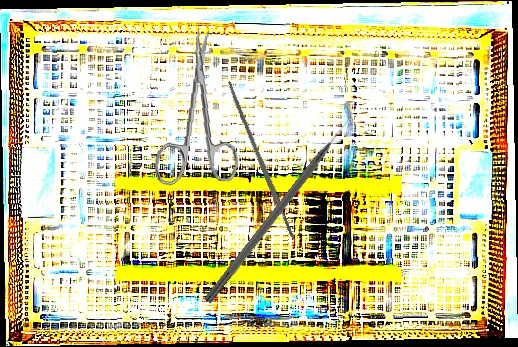Hook Surgical: (203, 117, 355, 306)
Iris Scissors: (153, 25, 248, 191)
Scalpel Handle: (225, 80, 295, 239)
